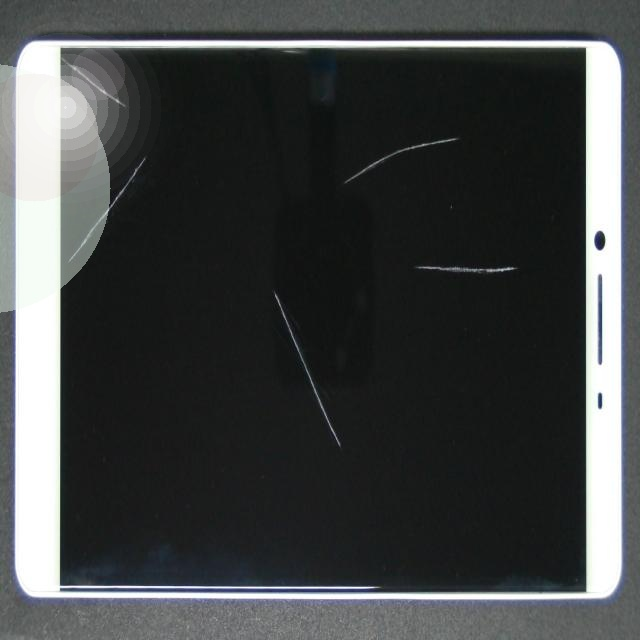scratch: (328, 126, 640, 379), (221, 338, 495, 606), (309, 27, 640, 199)
